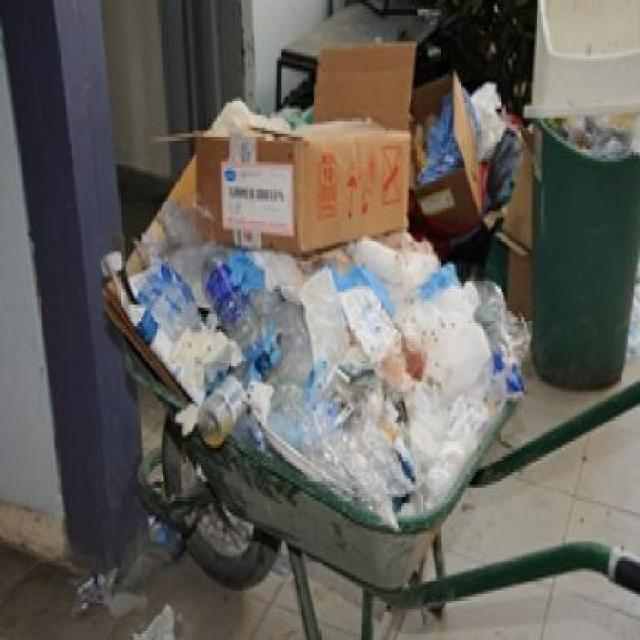garbage: (134, 217, 536, 468), (217, 88, 438, 247), (532, 6, 638, 152), (429, 106, 530, 218)
